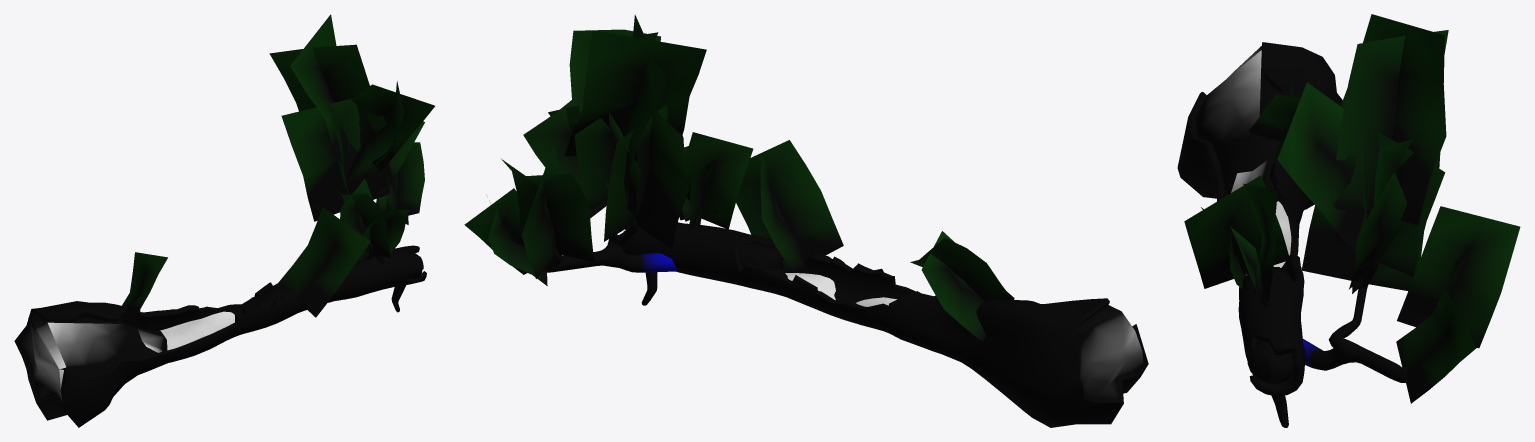
Rendered from BeecthTreeDeadBark_LOD0.fbx.
3 renders of one model, left to right at view 1: azimuth 30°, elevation 25°; view 2: azimuth 150°, elevation 25°; view 3: azimuth 270°, elevation 25°, orthographic. The views are drawn at different scales.
Visible parts, largest first — view 1: BeechTrunk_Leaves_LOD0, BeechTrunkDead_LOD0, BeechTrunkDead_Core_LOD0, BeechTrunkDead_Cut_LOD0, BeechTrunkDead_Stiks_LOD0; view 2: BeechTrunk_Leaves_LOD0, BeechTrunkDead_LOD0, BeechTrunkDead_Core_LOD0, BeechTrunkDead_Cut_LOD0, BeechTrunkDead_Stiks_LOD0; view 3: BeechTrunk_Leaves_LOD0, BeechTrunkDead_LOD0, BeechTrunkDead_Core_LOD0, BeechTrunkDead_Stiks_LOD0.
Boxes of the visible parts, bbox=[...] form: BeechTrunk_Leaves_LOD0: bbox=[119, 14, 434, 324]; BeechTrunkDead_LOD0: bbox=[32, 147, 426, 427]; BeechTrunkDead_Core_LOD0: bbox=[14, 247, 426, 408]; BeechTrunkDead_Cut_LOD0: bbox=[19, 318, 62, 401]; BeechTrunkDead_Stiks_LOD0: bbox=[160, 311, 234, 350]; BeechTrunk_Leaves_LOD0: bbox=[464, 14, 1014, 341]; BeechTrunkDead_LOD0: bbox=[544, 207, 1147, 427]; BeechTrunkDead_Core_LOD0: bbox=[619, 230, 1148, 402]; BeechTrunkDead_Cut_LOD0: bbox=[1080, 311, 1143, 399]; BeechTrunkDead_Stiks_LOD0: bbox=[785, 273, 896, 306]; BeechTrunk_Leaves_LOD0: bbox=[1184, 14, 1520, 403]; BeechTrunkDead_LOD0: bbox=[1177, 42, 1407, 427]; BeechTrunkDead_Core_LOD0: bbox=[1188, 43, 1304, 396]; BeechTrunkDead_Stiks_LOD0: bbox=[1246, 201, 1291, 275].
Size of the model in its own units: 11.37 by 6.65 by 5.12.
